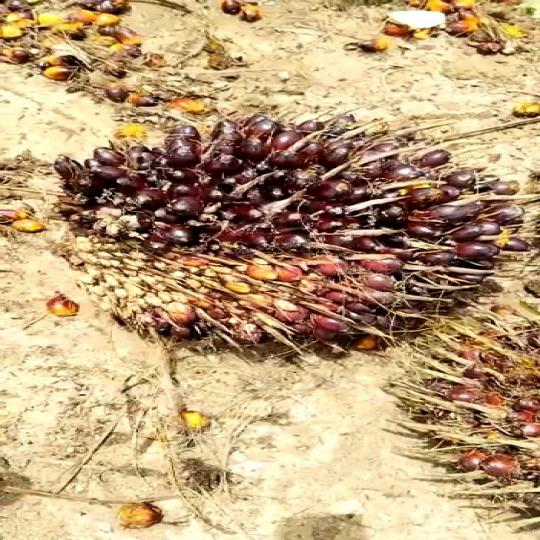mentah: (53, 107, 506, 370)
